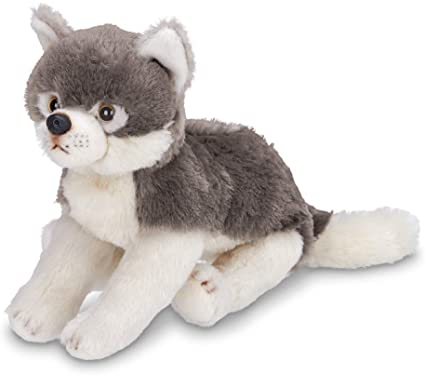Lobo: (11, 8, 392, 350)
